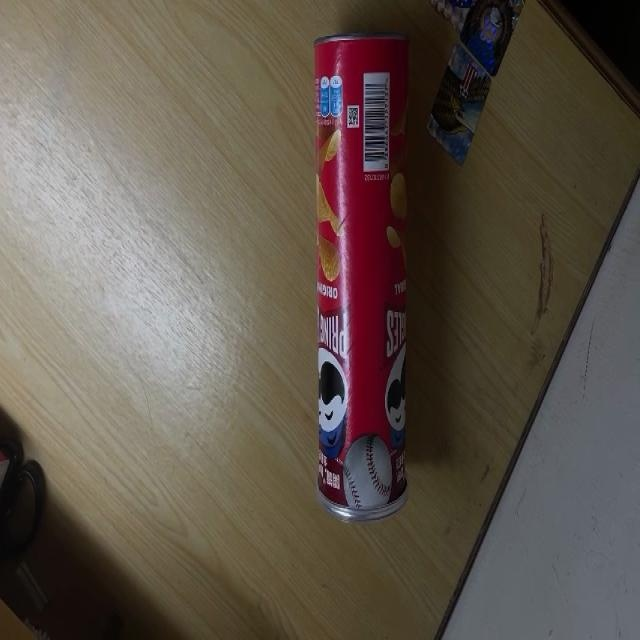Pringles: (313, 36, 411, 520)
